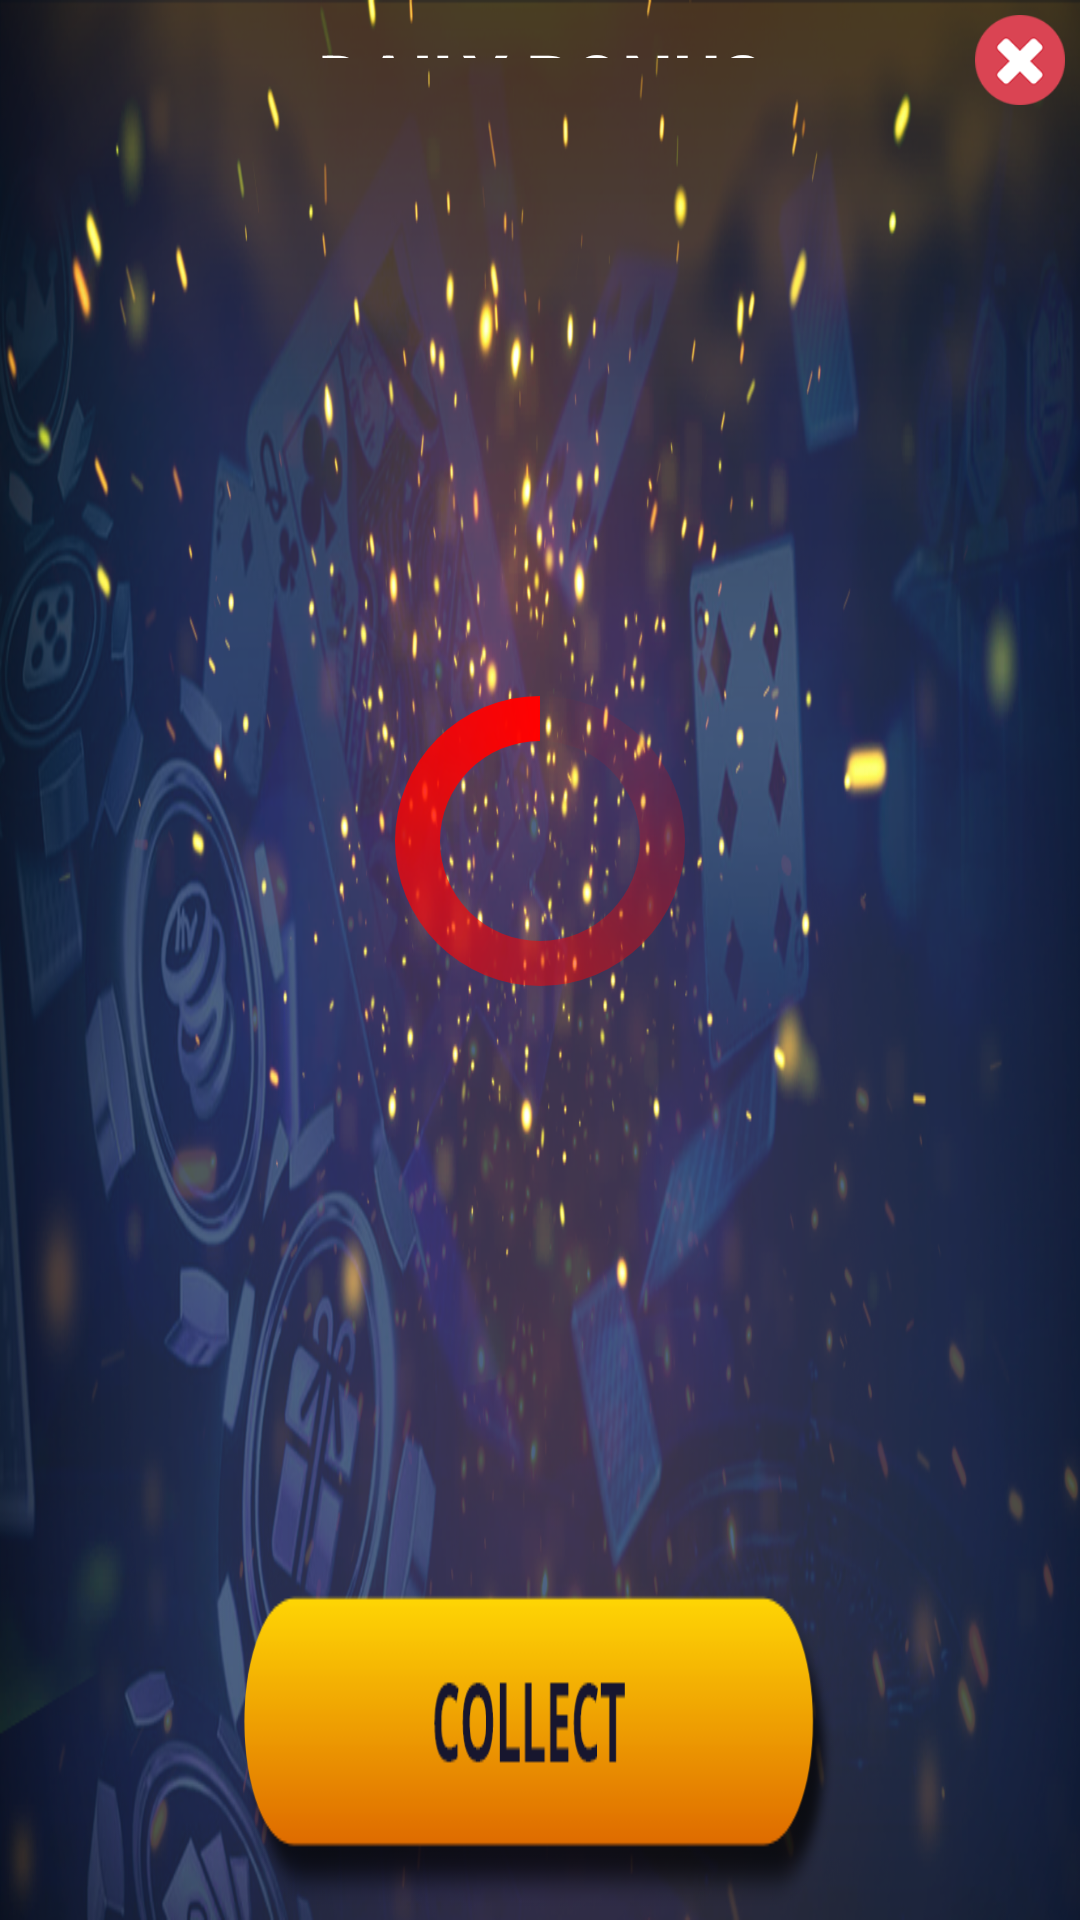

Screen size 1080 x 1920. Icon name, then its center in pixels as (x,y):
close: (1020,60)
